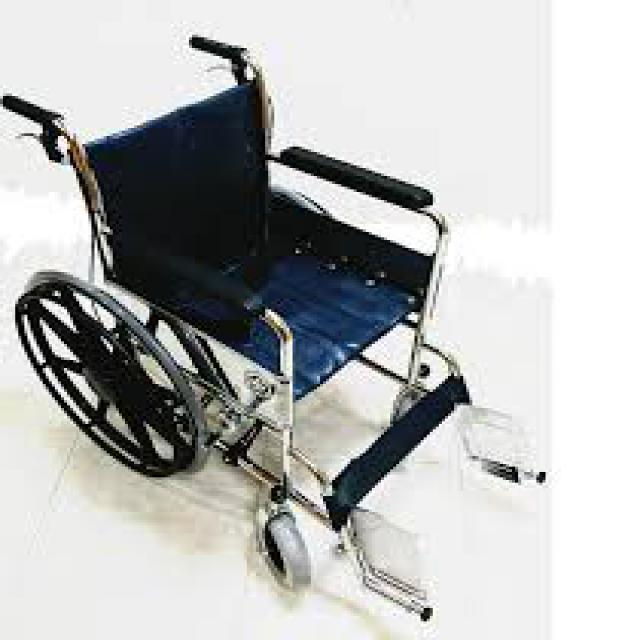wheelchair: (0, 23, 555, 630)
